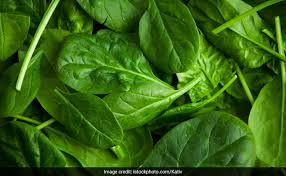spinach: (18, 11, 259, 162)
